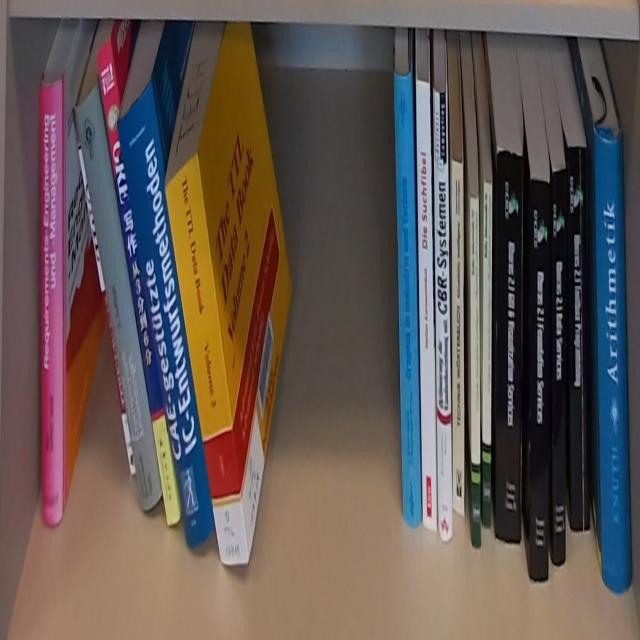Book Spine: (115, 85, 214, 549), (94, 46, 181, 530), (75, 80, 164, 514), (163, 156, 249, 572), (78, 142, 136, 478), (593, 133, 633, 599), (392, 70, 423, 534), (39, 81, 65, 531), (495, 152, 524, 550), (414, 82, 438, 532), (431, 92, 454, 542), (529, 172, 554, 585), (568, 144, 592, 532), (552, 169, 570, 569), (451, 160, 465, 515), (469, 196, 481, 549), (482, 181, 493, 534)
